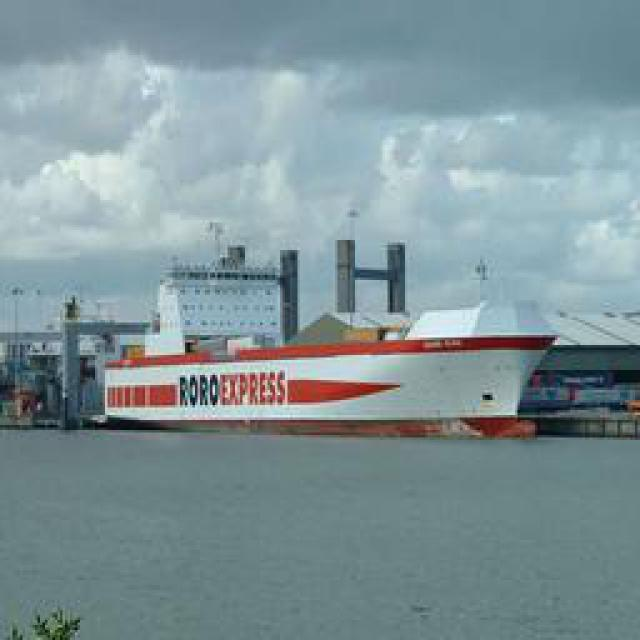Ship: (89, 302, 554, 430)
